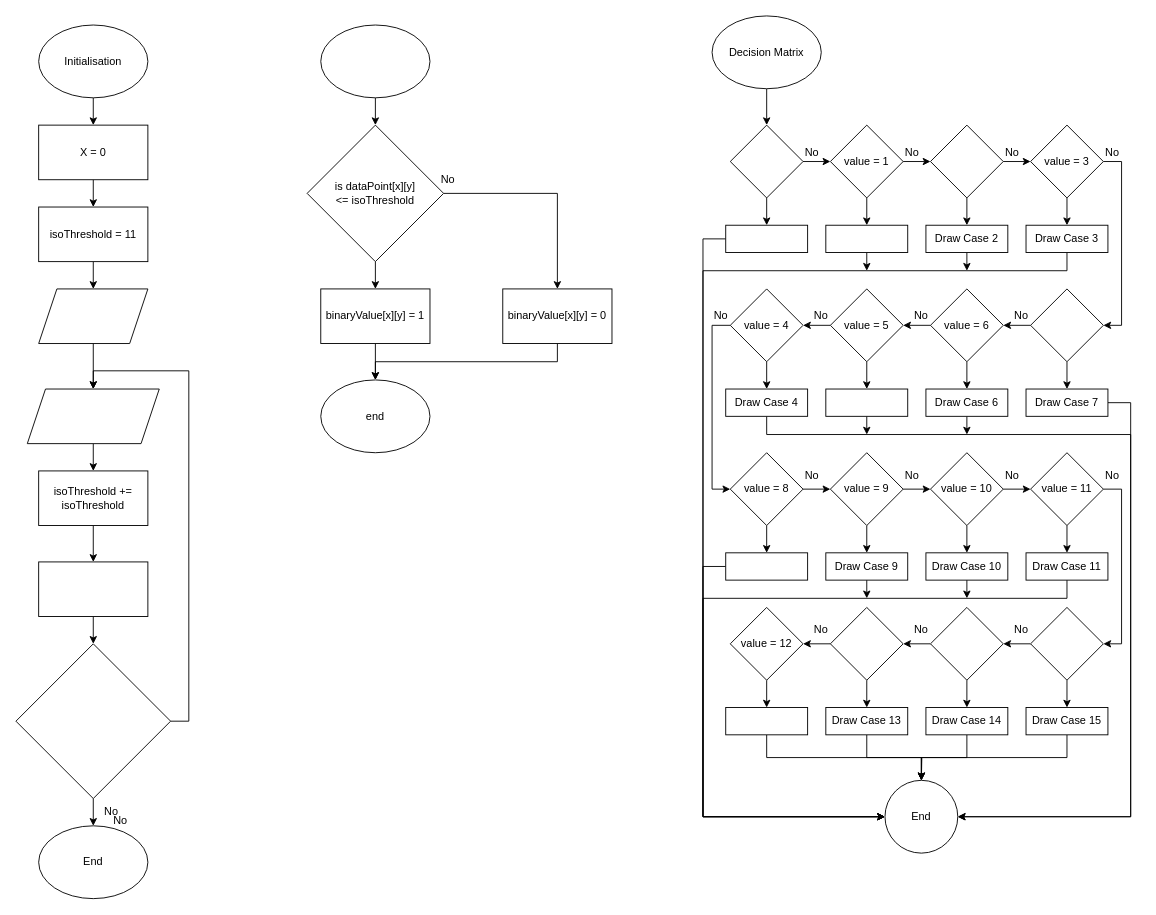
Image size: 1156x915. Some labels were removed from this diagram. The centre of each missing label's shape, as x and y in pixels:
"add isoThreshold to isoBoundaries[]" goes at [92,416].
"Assign Binary Value" goes at [375,61].
"Draw Case 0" goes at [766,238].
"Draw Case 1" goes at [866,238].
"Draw Case 12" goes at [766,721].
"Draw Case 5" goes at [866,402].
"Draw Case 8" goes at [766,566].
"Is isothreshold < 200" goes at [93,721].
"isoBoundaries[]" goes at [93,316].
"value = 0" goes at [766,161].
"value = 13" goes at [866,643].
"value = 15" goes at [1066,643].
"value = 2" goes at [966,161].
"value = 7" goes at [1066,325].
"value =14" goes at [966,643].
"X += 1" goes at [93,589].
